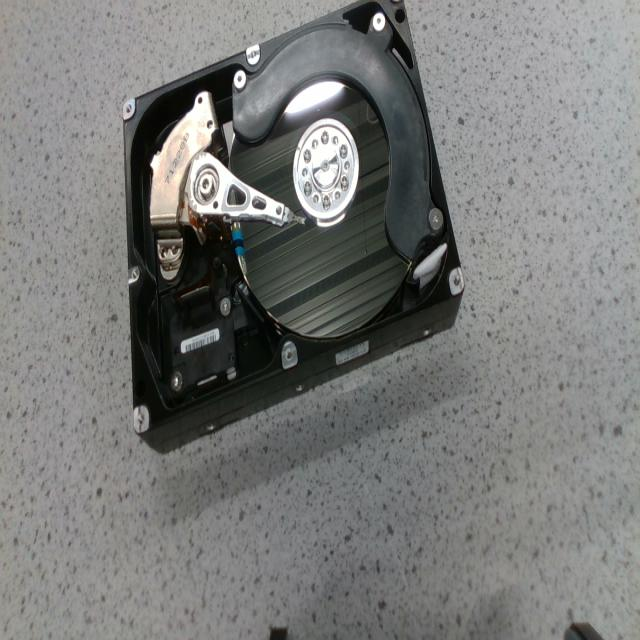actuator arm: (188, 153, 294, 227)
actuator axis: (196, 168, 216, 200)
case: (122, 0, 465, 451)
magnet: (150, 93, 216, 229)
pcb connector: (167, 294, 235, 389)
platter: (228, 77, 411, 334)
platter holder: (294, 119, 359, 223)
platter protector: (233, 14, 442, 258)
screw: (428, 207, 443, 231), (234, 69, 246, 90), (372, 12, 385, 30), (219, 298, 230, 315), (171, 373, 181, 388), (303, 180, 312, 196), (340, 175, 348, 190), (322, 195, 330, 209), (303, 149, 311, 163), (340, 144, 348, 158), (321, 131, 328, 143)
